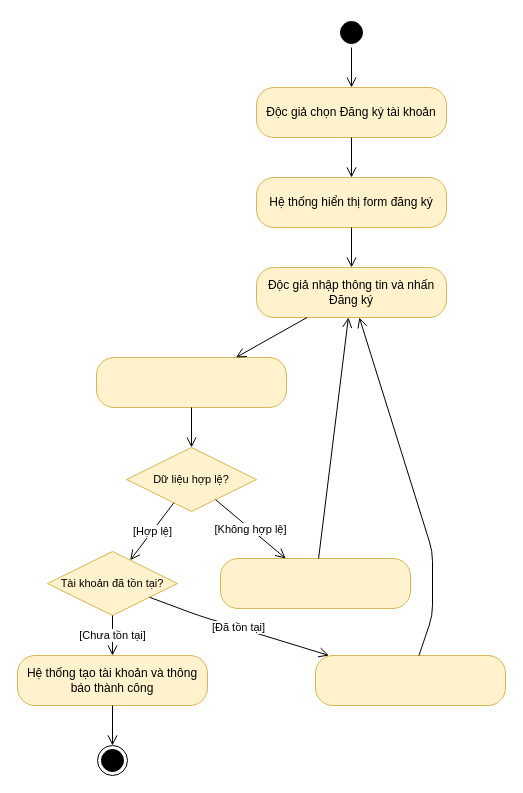
This 523x793 diagram has some shape labels left out. The box of each missing label's shape, as (x1, y1, x2, y2) in pixels:
Hệ thống kiểm tra dữ liệu: (96, 356, 286, 408)
Hệ thống thông báo lỗi dữ liệu: (220, 558, 410, 608)
Hệ thống thông báo tài khoản đã tồn tại: (314, 654, 506, 706)
